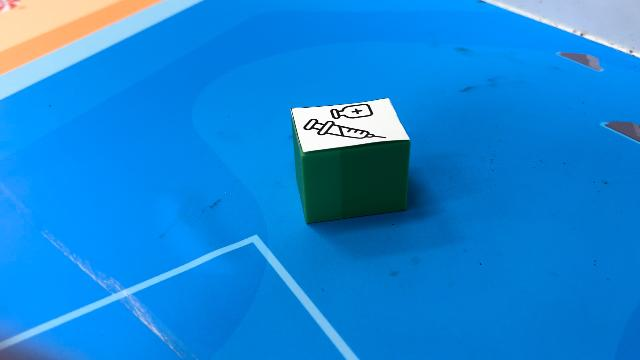syringe: (290, 96, 410, 224)
